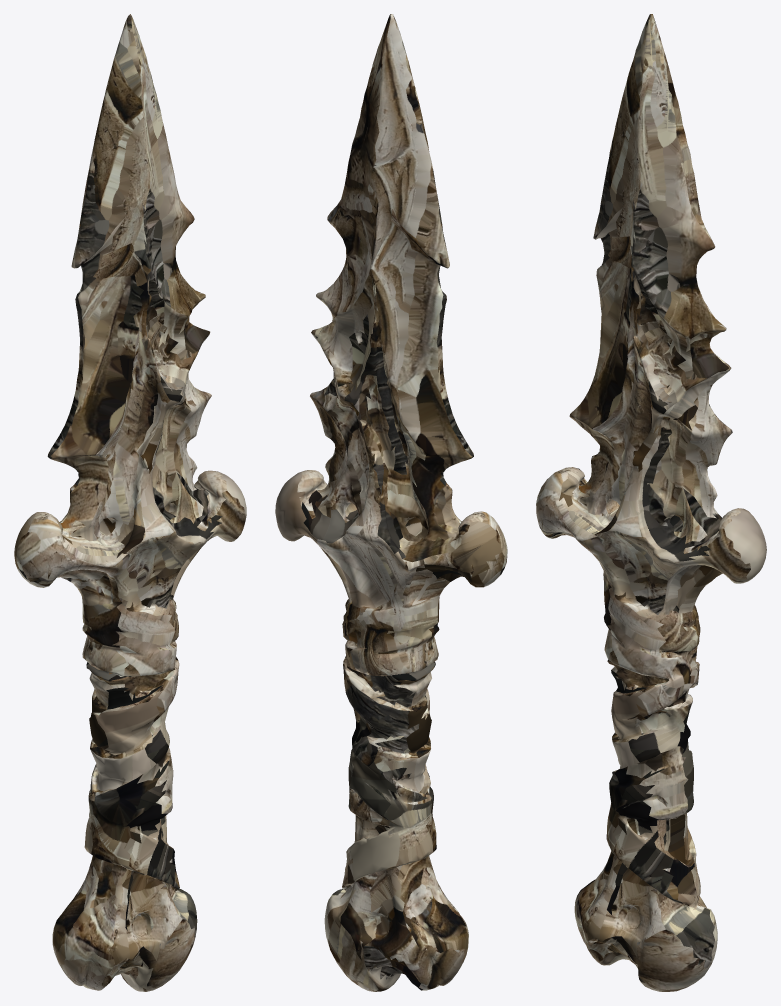
The model's file is SynthDagger_model.obj.
The picture shows the model from 3 angles, left to right: view 1: azimuth 30°, elevation 25°; view 2: azimuth 150°, elevation 25°; view 3: azimuth 330°, elevation 25°; orthographic projection.
Visible parts, largest first — view 1: surface_7; view 2: surface_7; view 3: surface_7.
Part boxes in pixels (bbox=[...]): surface_7: bbox=[14, 14, 246, 991]; surface_7: bbox=[275, 14, 507, 991]; surface_7: bbox=[536, 14, 766, 991].
Bounding box in the file's own units: 0.2431 × 1 × 0.1067.
